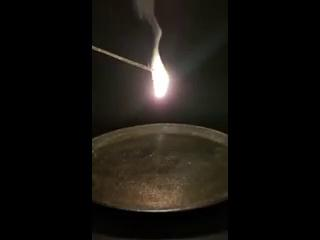Fire: (150, 20, 171, 100)
